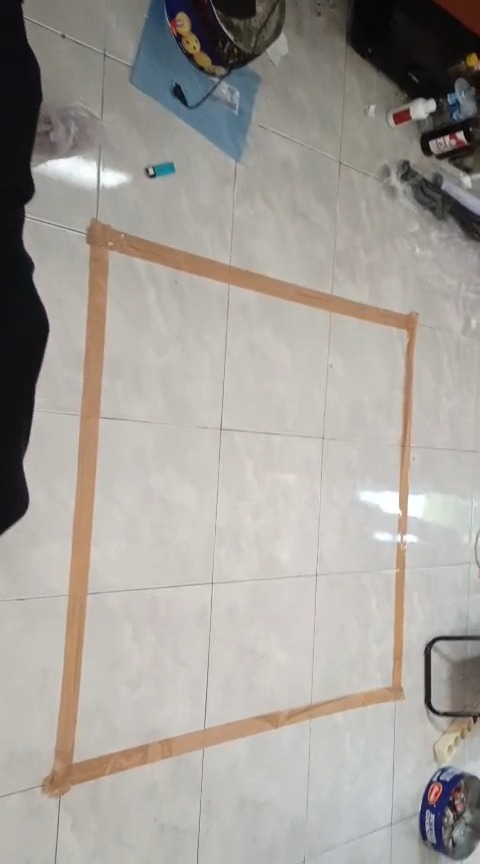floor marking: (43, 220, 415, 796)
